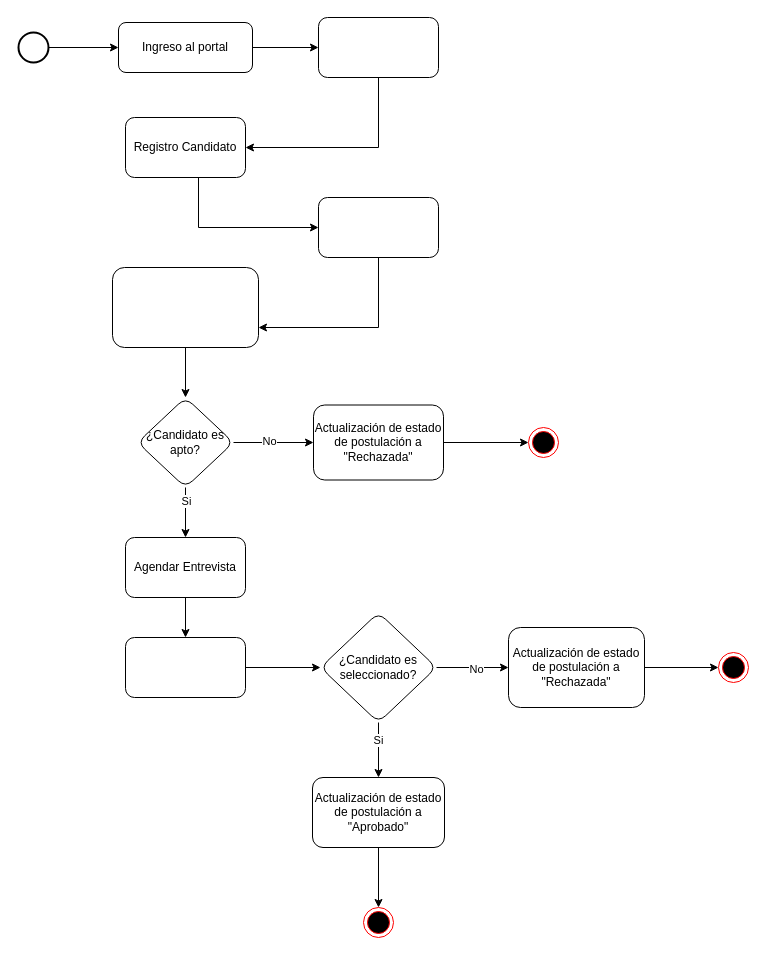
The diagram is 766 pixels wide and 955 high, and some of its shapes have lost their labels. Here are the shapes that lost their labels. From the top down, the centre of each, then its label:
(378,47): Publicación Oferta Laboral
(378,227): Postulación a Oferta Laboral
(185,307): Revisión de Reclutador
(185,667): Realizar Entrevista
